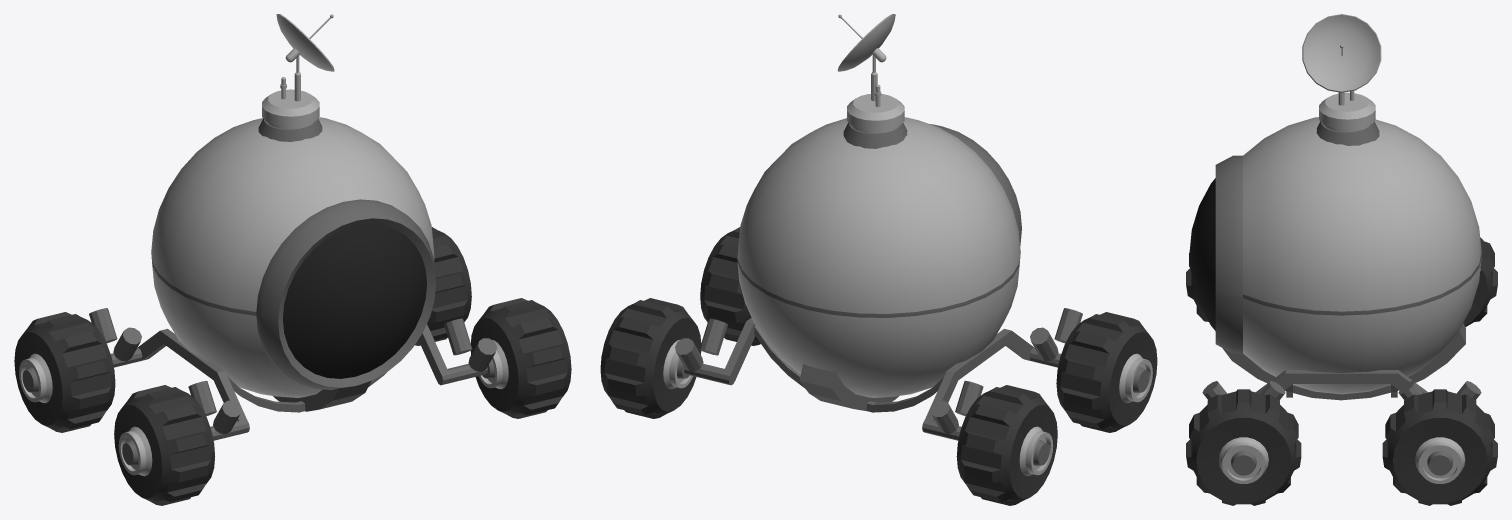
The model's file is round-rover.glb.
3 views of the same model, side by side, from view 1: azimuth 30°, elevation 25°; view 2: azimuth 150°, elevation 25°; view 3: azimuth 270°, elevation 25° (orthographic).
Visible parts, largest first — view 1: Rover_Round, Wheel_2, Wheel_4, Wheel_3, Wheel_1; view 2: Rover_Round, Wheel_4, Wheel_2, Wheel_1, Wheel_3; view 3: Rover_Round, Wheel_1, Wheel_3, Wheel_4, Wheel_2.
Boxes of the visible parts, left/top/right/bottom form: Rover_Round: left=89, top=14, right=496, bottom=440; Wheel_2: left=114, top=385, right=214, bottom=505; Wheel_4: left=14, top=312, right=115, bottom=432; Wheel_3: left=470, top=298, right=571, bottom=418; Wheel_1: left=415, top=227, right=471, bottom=345; Rover_Round: left=675, top=14, right=1082, bottom=440; Wheel_4: left=956, top=385, right=1057, bottom=505; Wheel_2: left=1056, top=312, right=1157, bottom=432; Wheel_1: left=600, top=298, right=701, bottom=418; Wheel_3: left=700, top=227, right=760, bottom=345; Rover_Round: left=1189, top=14, right=1481, bottom=400; Wheel_1: left=1382, top=389, right=1497, bottom=505; Wheel_3: left=1186, top=389, right=1301, bottom=505; Wheel_4: left=1463, top=237, right=1497, bottom=326; Wheel_2: left=1186, top=252, right=1208, bottom=321.
Bounding box in the file's own units: 5.79 × 5.17 × 3.69.
1 material, 1 textured.
